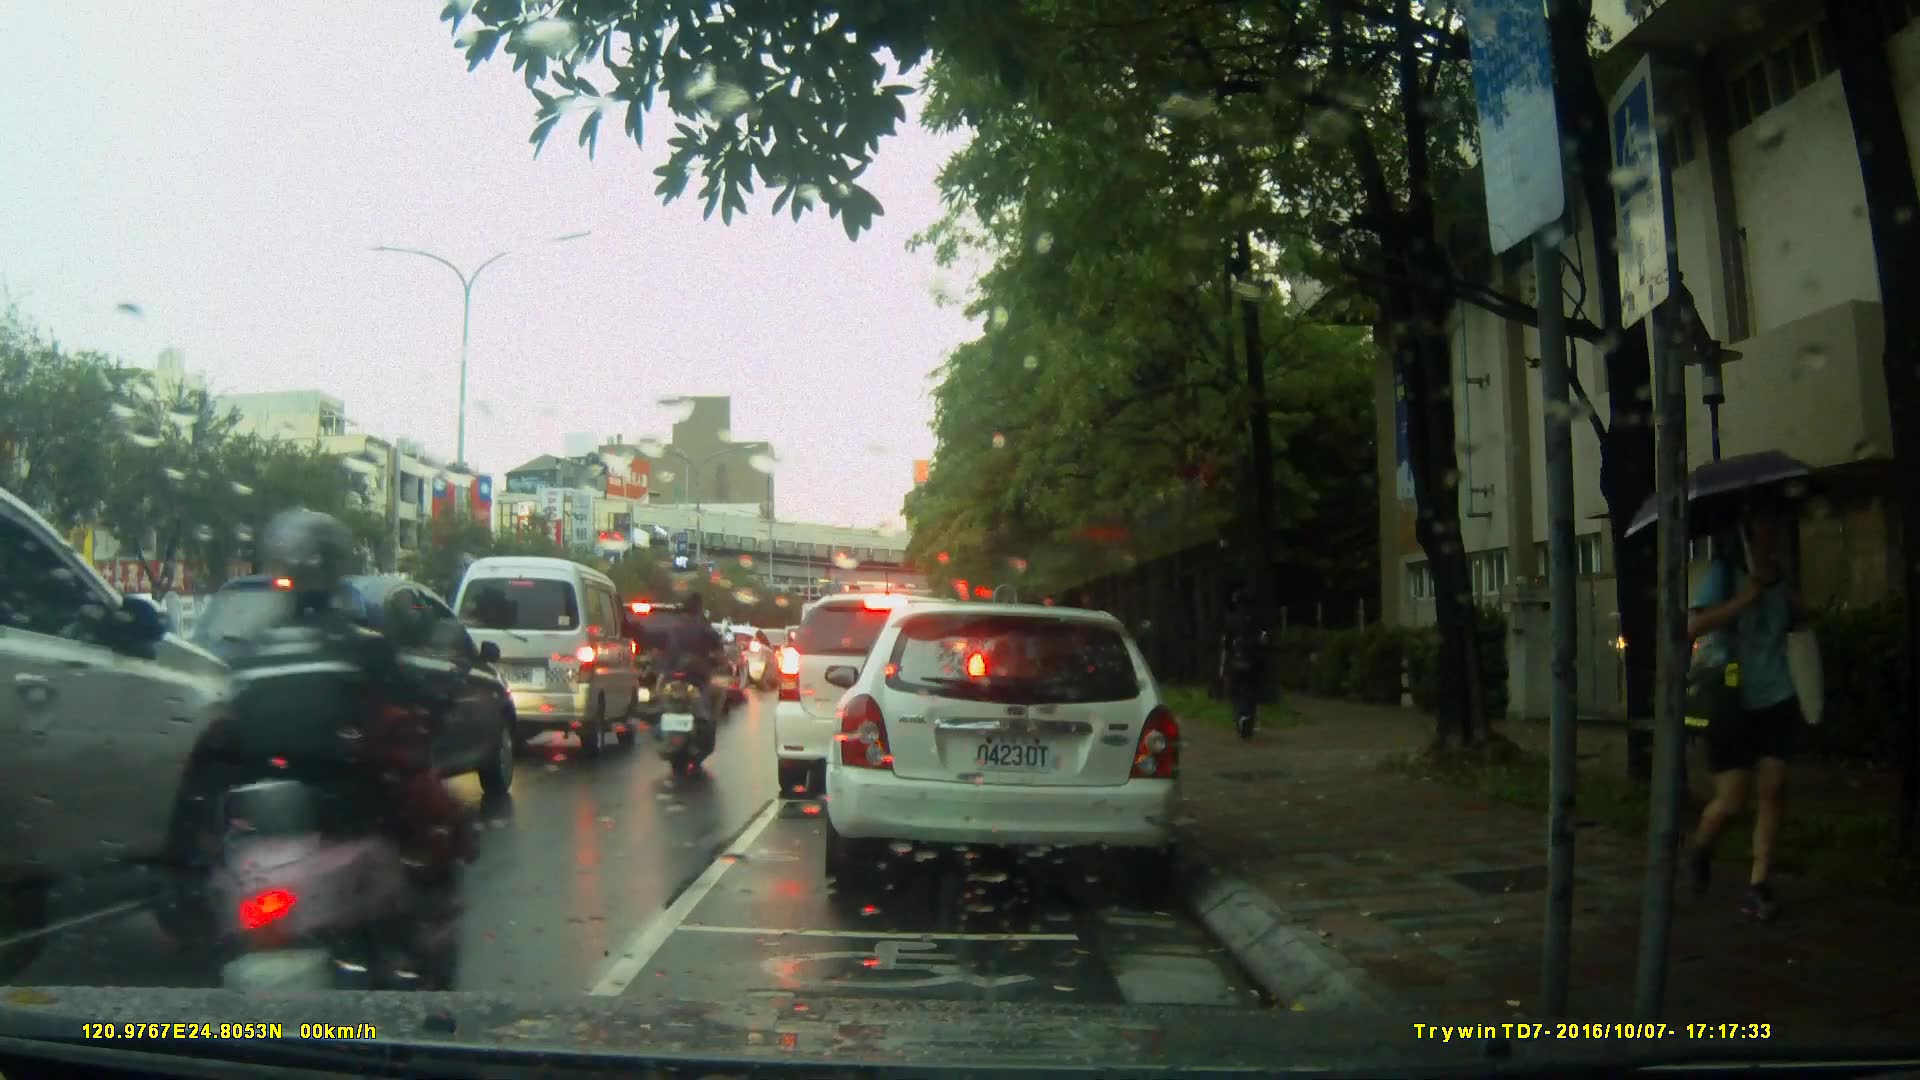pedestrian: (1694, 478, 1832, 932), (1210, 585, 1280, 754)
rider: (211, 510, 475, 1043), (650, 584, 727, 790)
vehicle: (1, 449, 273, 988), (815, 593, 1204, 909), (146, 570, 524, 833), (770, 590, 994, 802), (442, 554, 644, 763), (584, 602, 736, 724)
